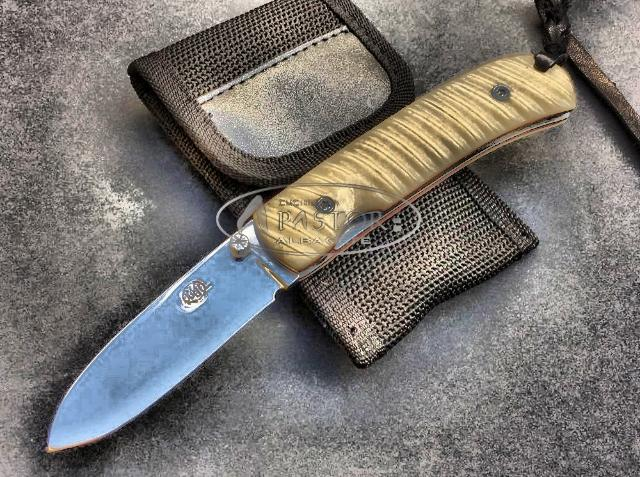knife: (41, 208, 313, 456)
